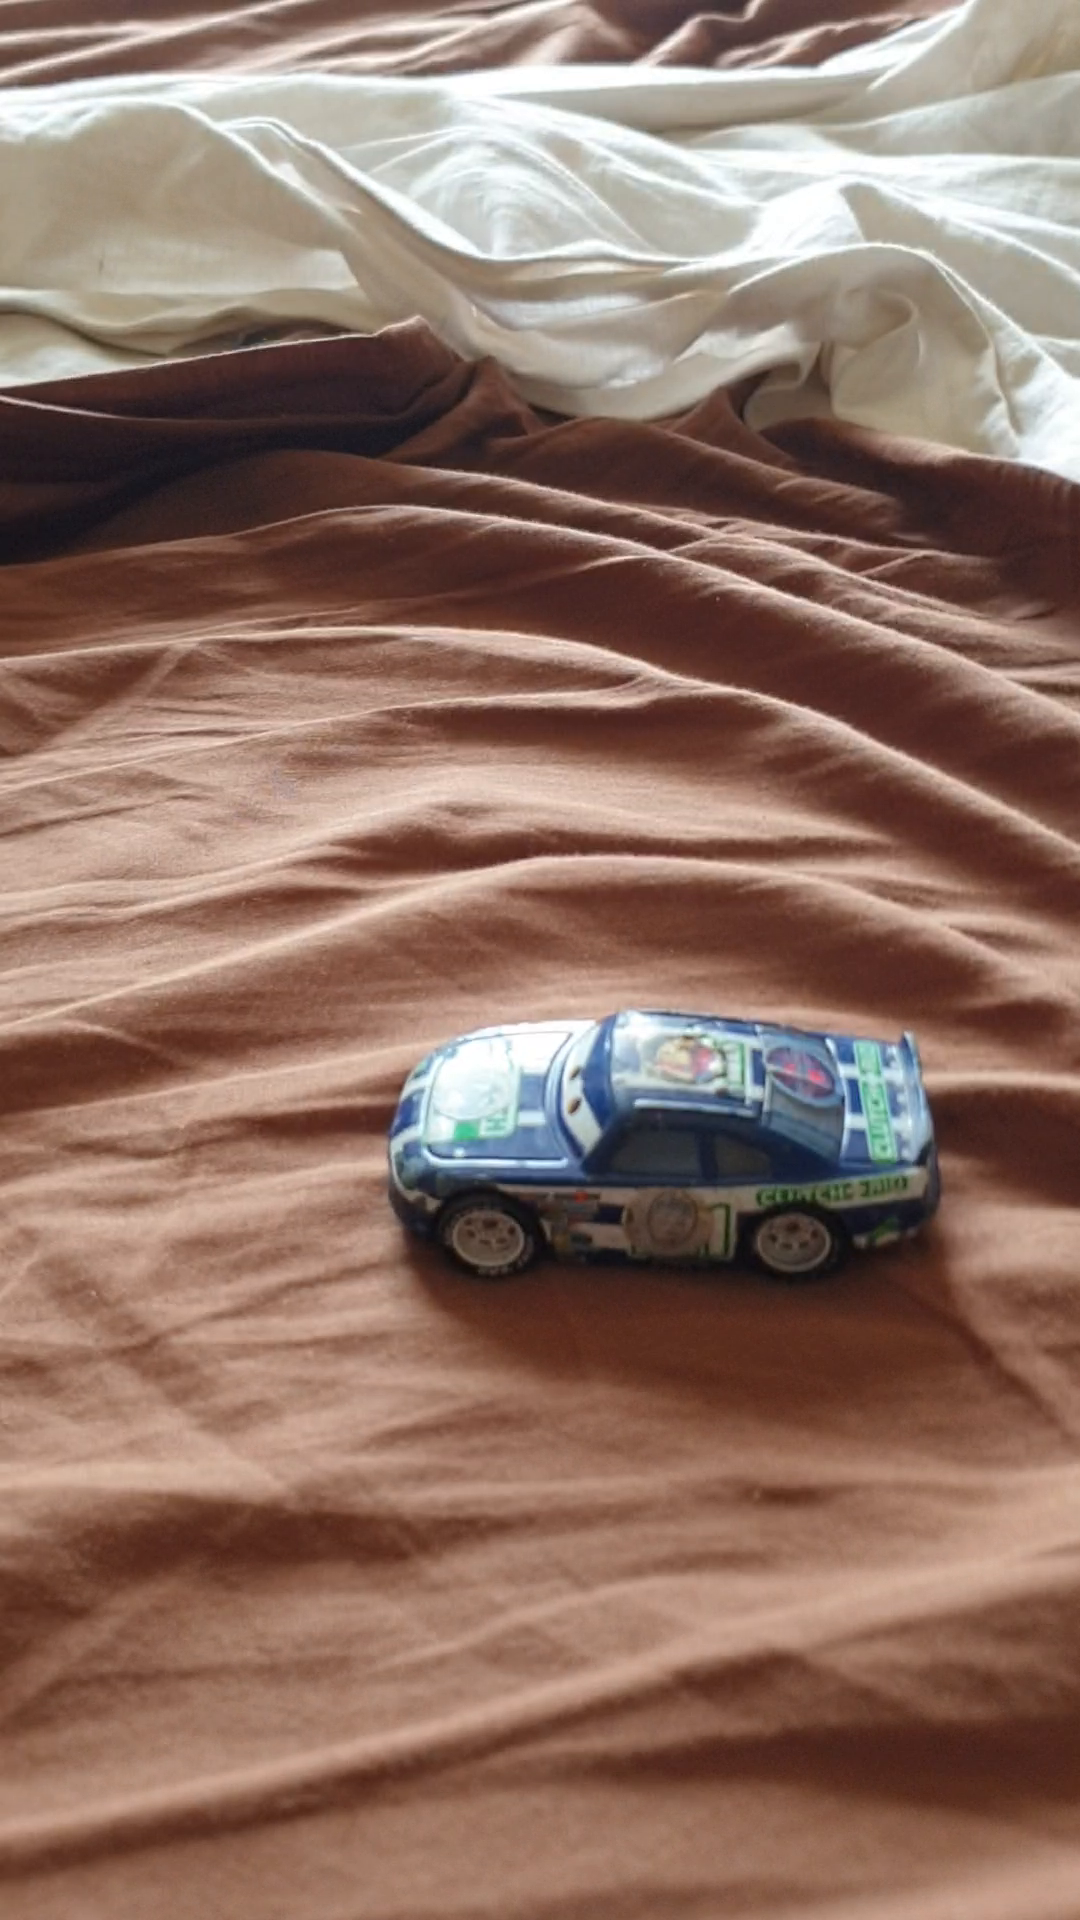cars: (375, 1013, 938, 1280)
